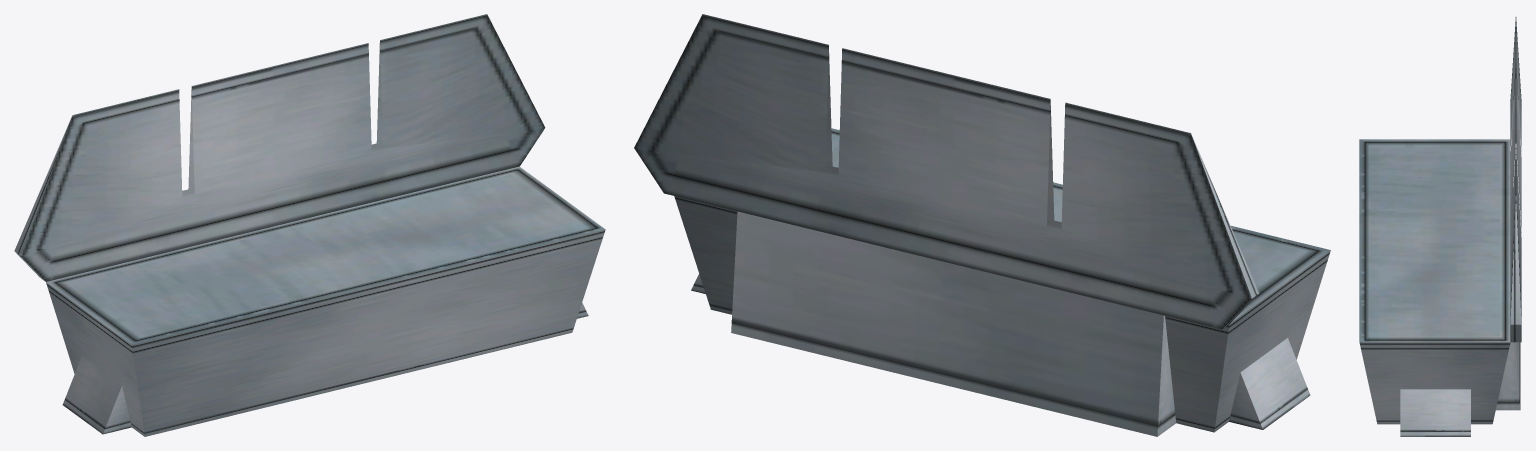
Rendered from frn_all_tech_couch_s01_l1.fbx.
3 renders of one model, left to right at view 1: azimuth 30°, elevation 25°; view 2: azimuth 150°, elevation 25°; view 3: azimuth 270°, elevation 25°, orthographic. The views are drawn at different scales.
Parts seen in each view (by area): view 1: mesh_node; view 2: mesh_node; view 3: mesh_node.
Part boxes in pixels (<box>): mesh_node: <box>14,14,605,436</box>; mesh_node: <box>634,14,1330,436</box>; mesh_node: <box>1359,17,1521,436</box>.
Bounding box in the file's own units: 2.09 × 0.997 × 0.6363.
1 material, 1 textured.
